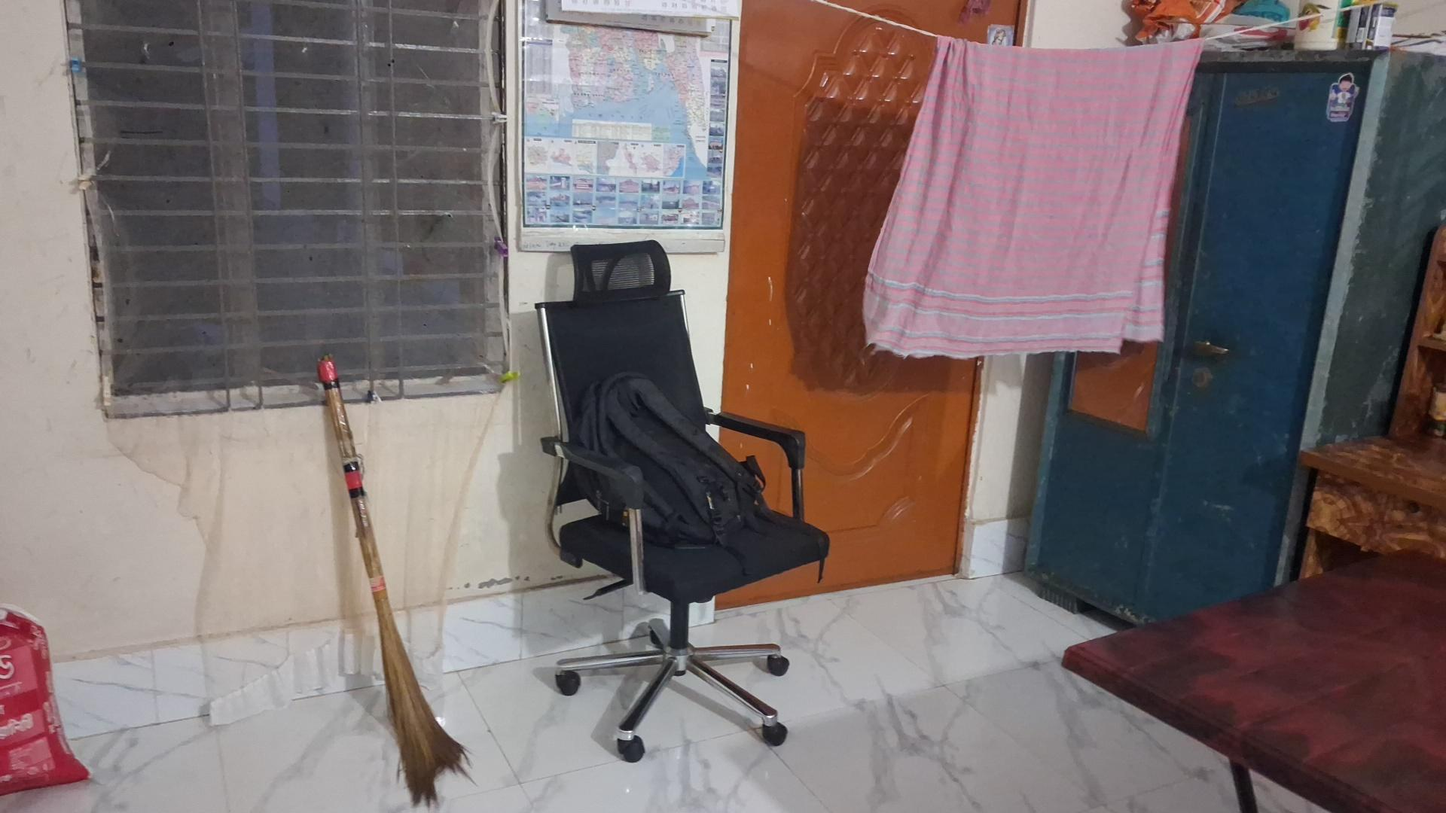Bag: (0, 603, 94, 790)
Chair: (534, 241, 831, 758)
Mop: (310, 355, 474, 793)
Towel: (865, 34, 1202, 357)
Window: (56, 2, 517, 414)
